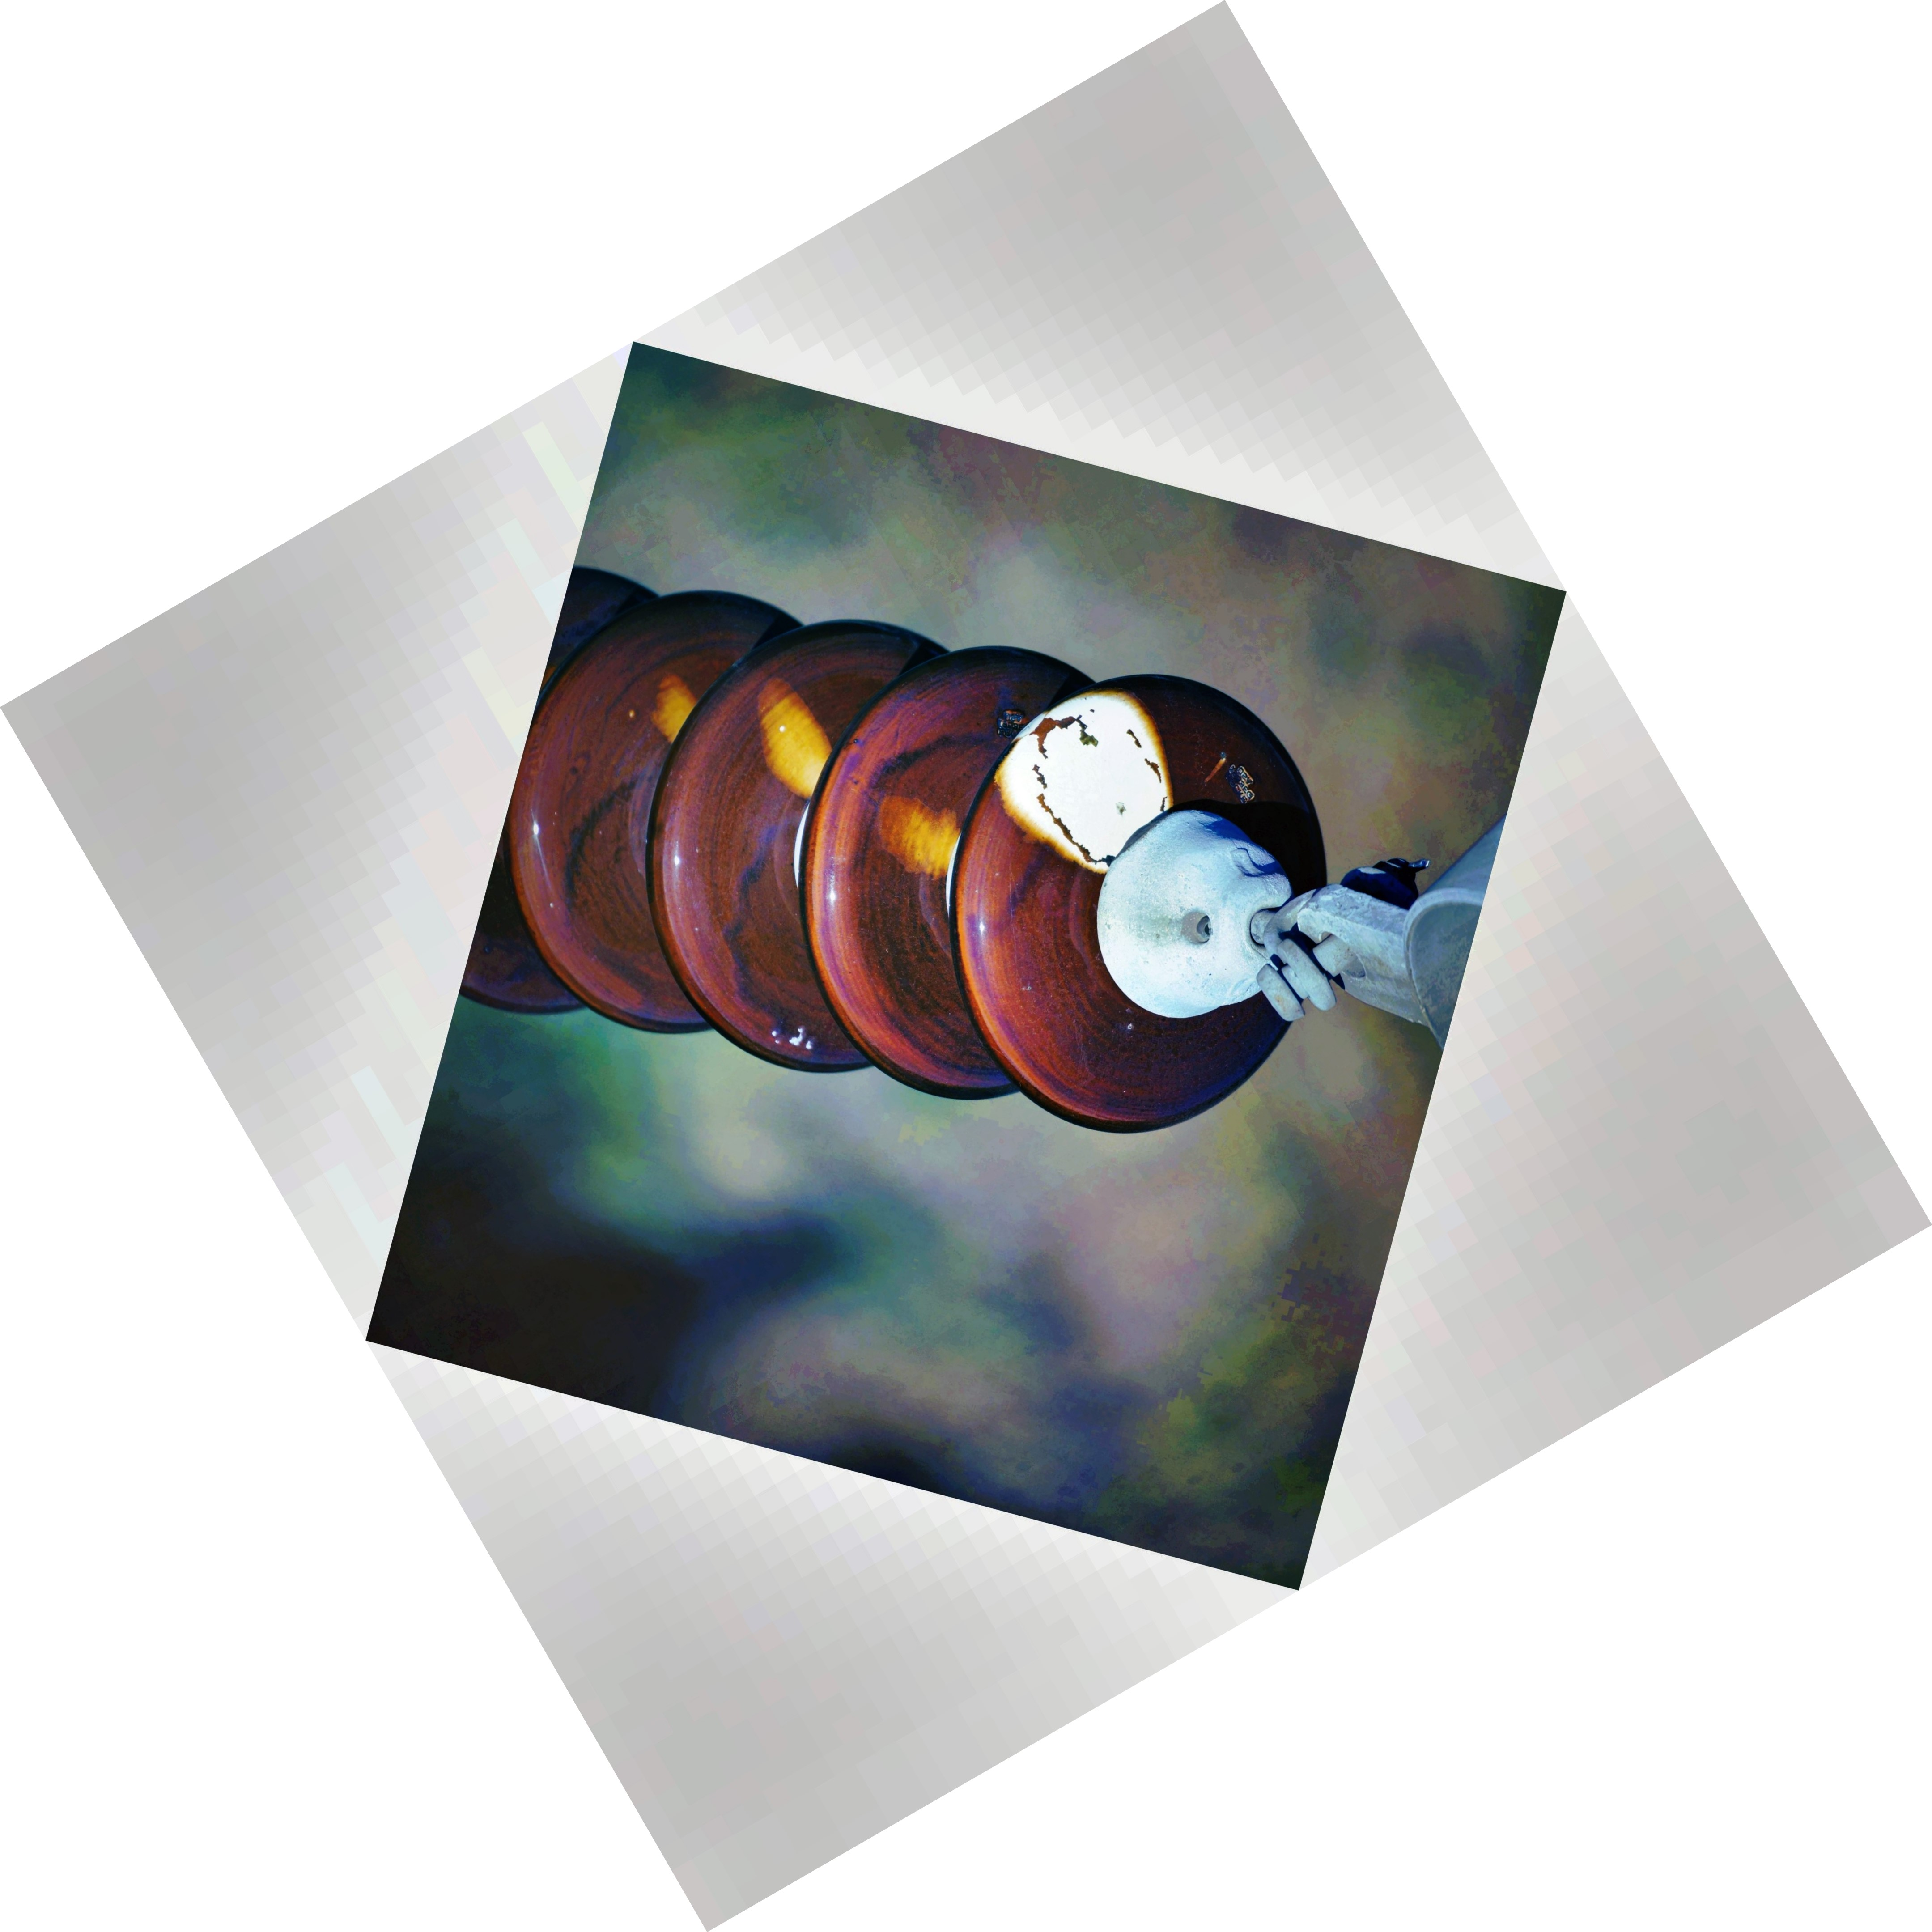Insulator flashover: (941, 644, 1327, 1146)
